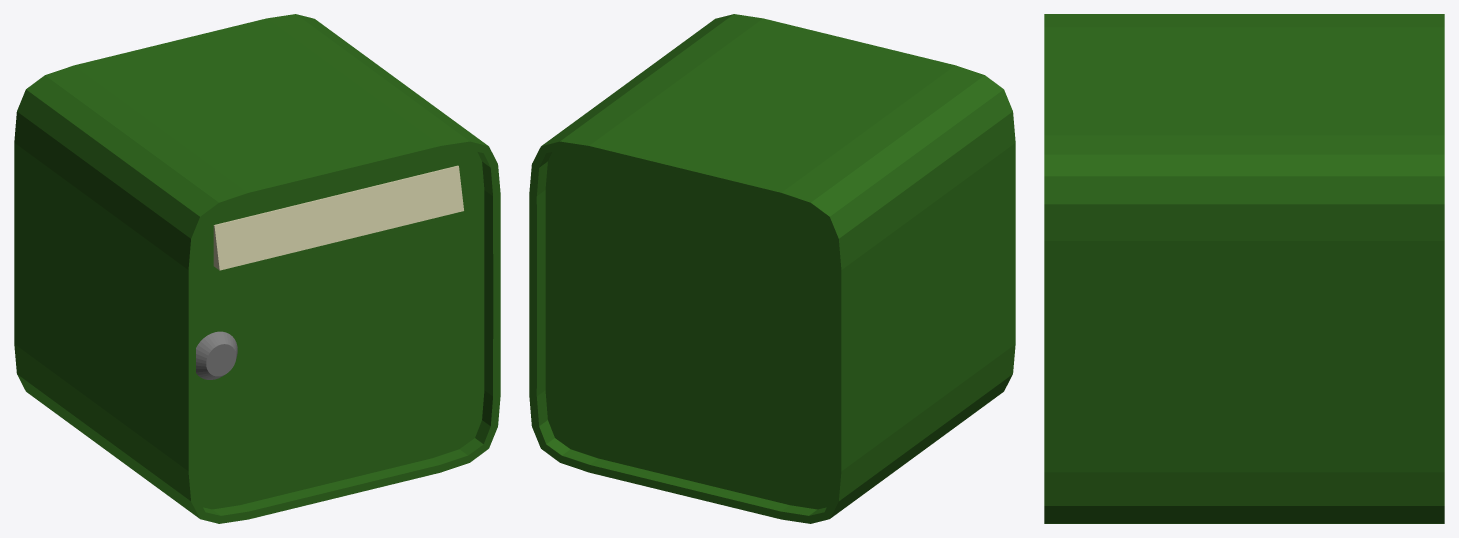
Rendered from boiteALettre.glb.
3 views of the same model, side by side, from view 1: azimuth 30°, elevation 25°; view 2: azimuth 150°, elevation 25°; view 3: azimuth 270°, elevation 25° (orthographic). The views are drawn at different scales.
Bounding box in the file's own units: 2.07 × 2.07 × 2.
